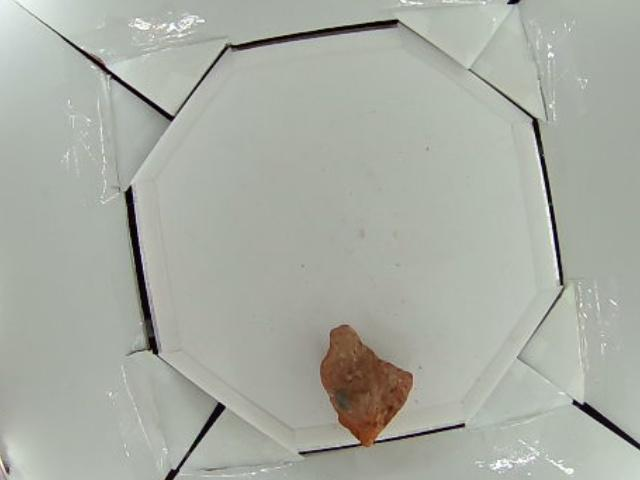Brisk: (319, 327, 415, 445)
